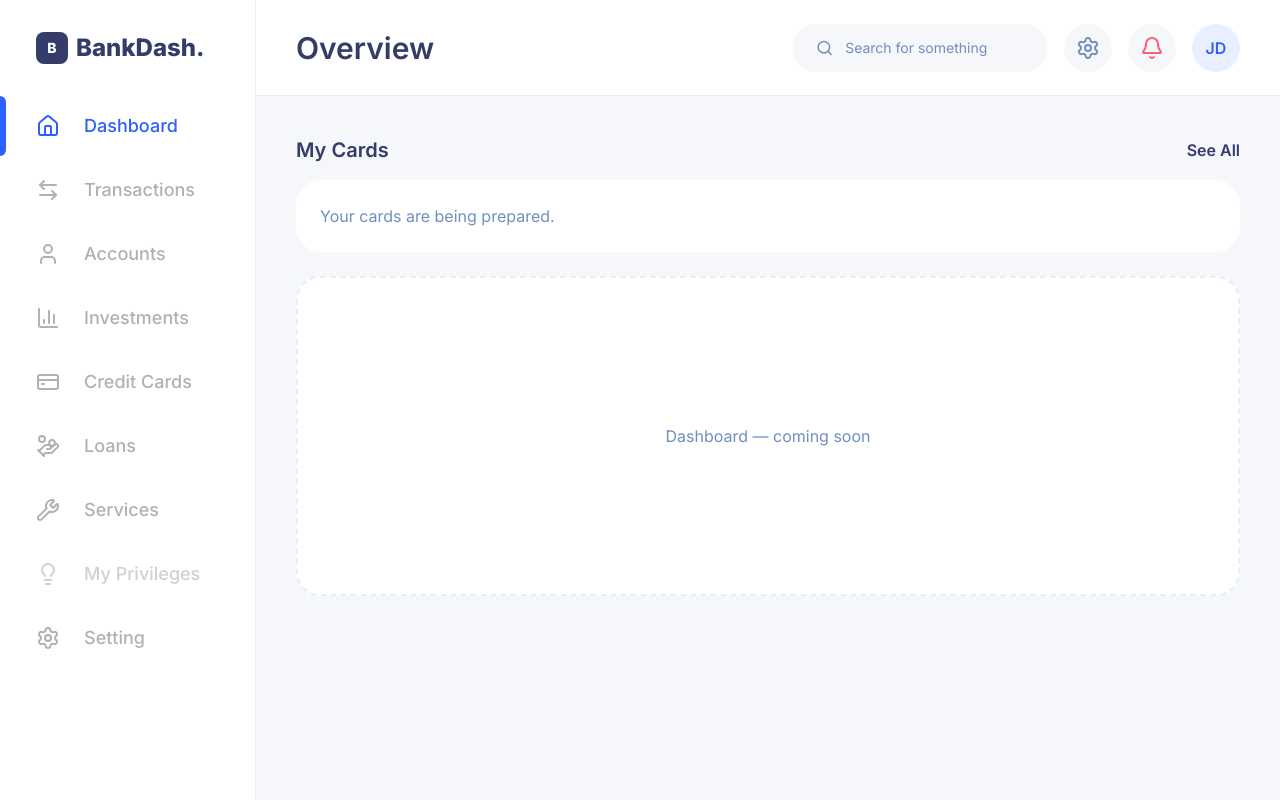
Test case: UserMenu › shows the profile's initials and full name
Check: the text "JD" is shown, box [1206,36,1226,60]
Click the button with aria-label "Account menu": [1216, 48] box [1192,24,1240,72]
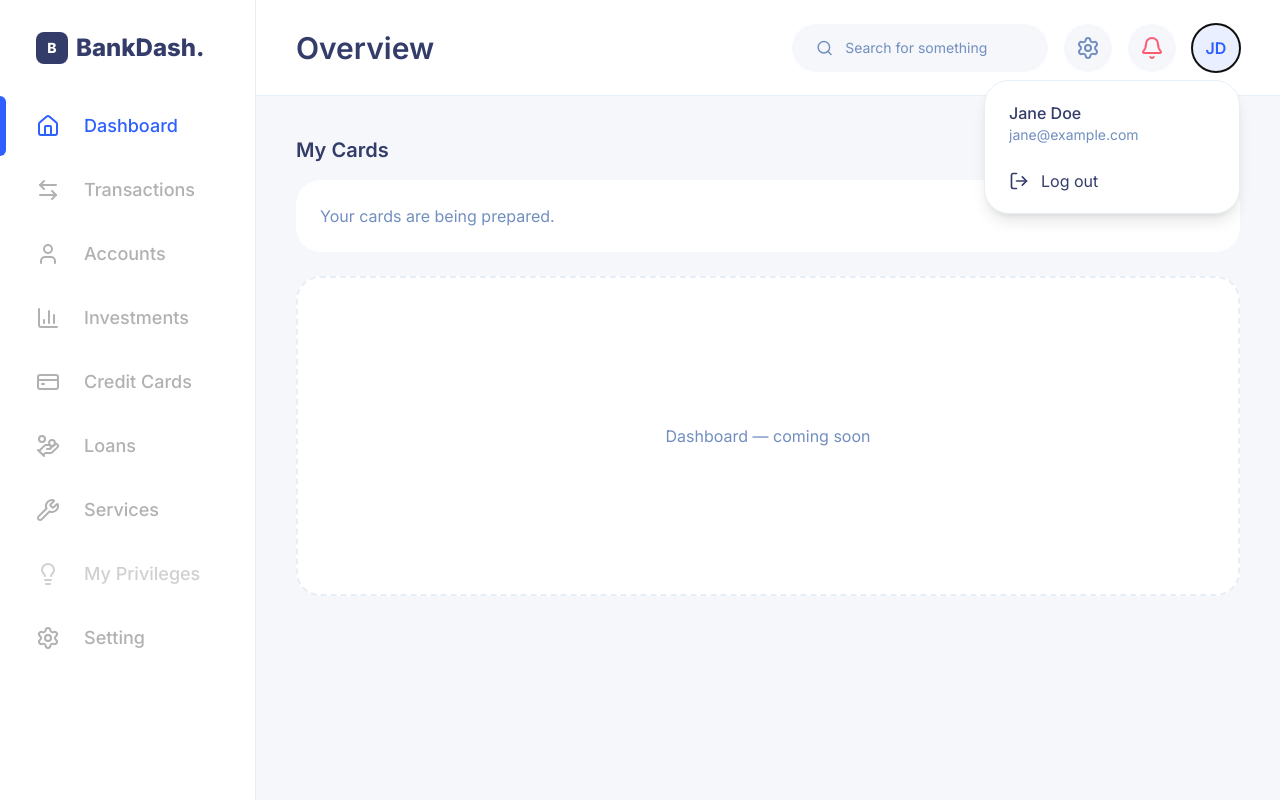
Check: the menu named "Account" shows "Jane Doe", box [1009,102,1081,122]
Check: the menu named "Account" shows "jane@example.com", box [1009,126,1139,142]
